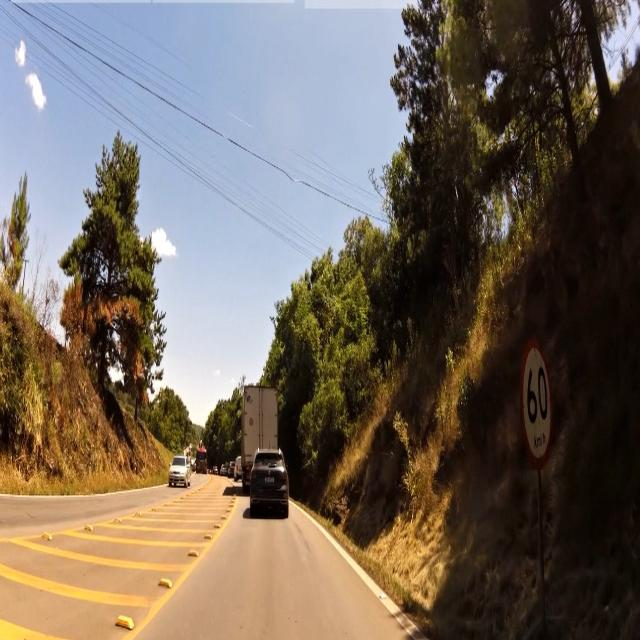R-19: (522, 343, 553, 466)
